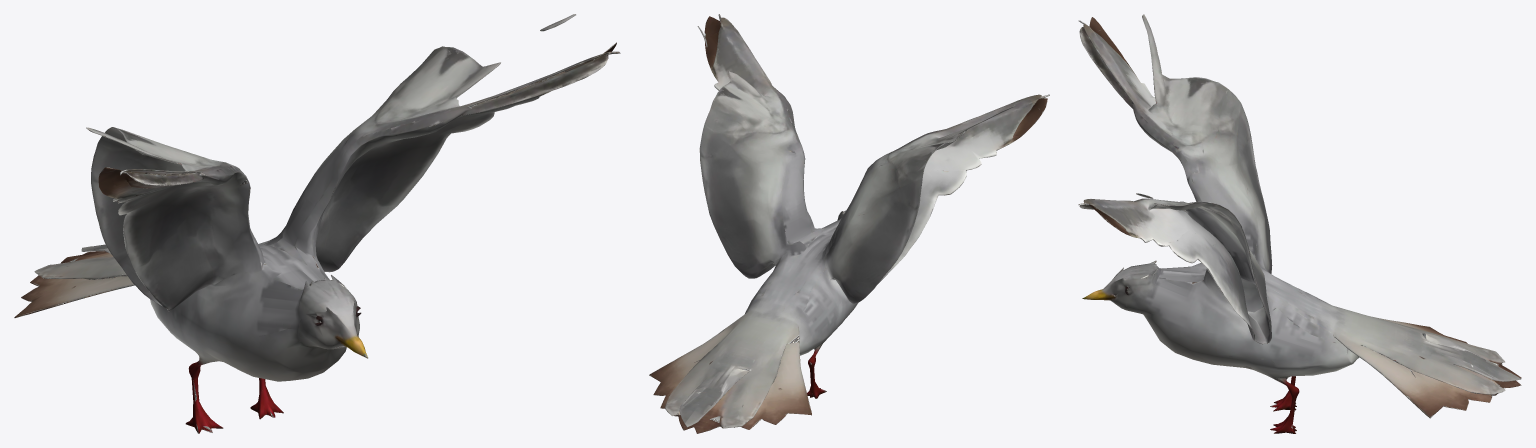
File: coastal-seagull-r50.glb
The picture shows the model from 3 angles, left to right: view 1: azimuth 30°, elevation 25°; view 2: azimuth 150°, elevation 25°; view 3: azimuth 270°, elevation 25°; orthographic projection. The views are drawn at different scales.
Visible parts, largest first — view 1: world; view 2: world; view 3: world.
Part boxes in pixels (x1=…): world: x1=14, y1=14, x2=620, y2=433; world: x1=649, y1=14, x2=1049, y2=433; world: x1=1078, y1=14, x2=1521, y2=433.
Bounding box in the file's own units: 1 × 0.7795 × 0.9896.
Materials: 1 (1 with a texture image).
